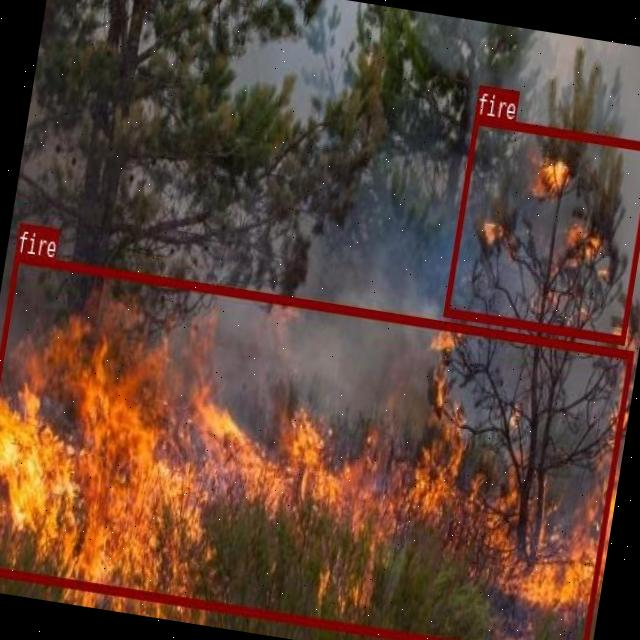fire: (0, 252, 633, 640), (443, 114, 640, 343)
